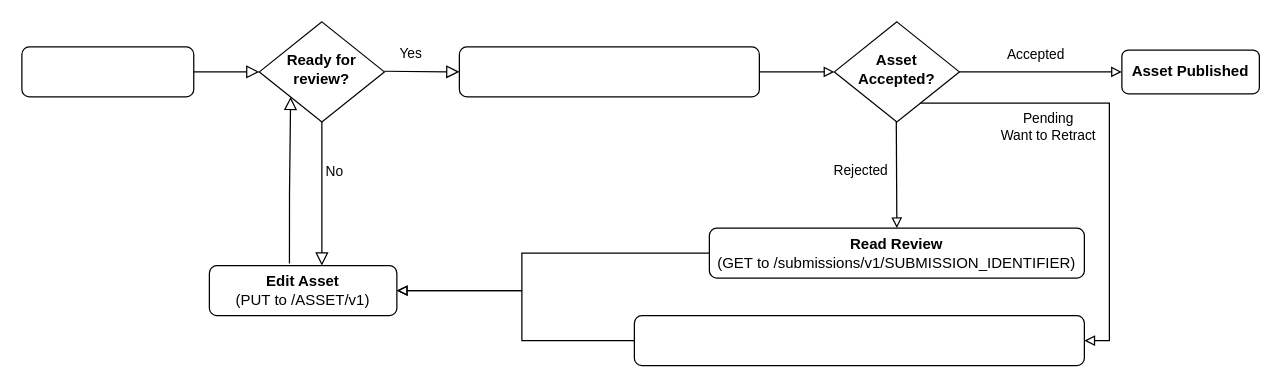
Image size: 1281x388. Some labels were removed from this diagram. The shapes that lost their labels are listed below. From the top down, each one's centre as x and y in pixels, then its label:
At (107,71): "Submit Asset (POST to /ASSET/v1)".
At (608,71): "Submit for Review (POST to /ASSET/submit/v1/IDENTIFIER)".
At (858,340): "Retract Submission (POST to /submissions/retract/v1/SUBMISSION_IDENTIFIER)".
